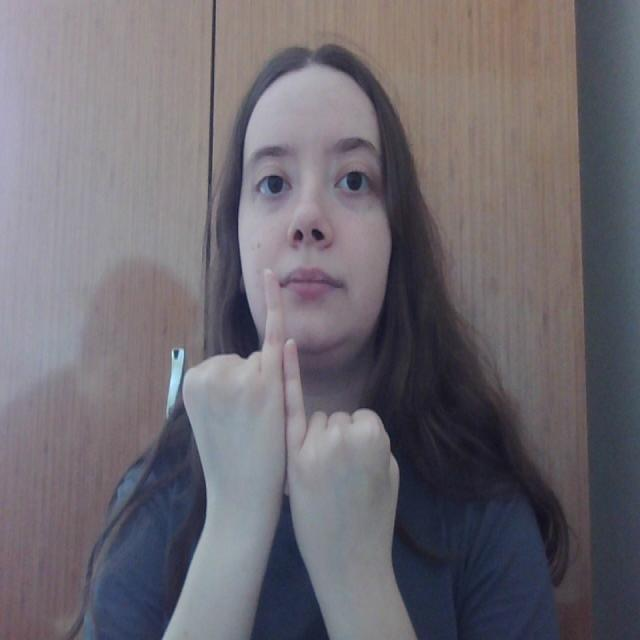Kardes: (177, 261, 408, 583)
